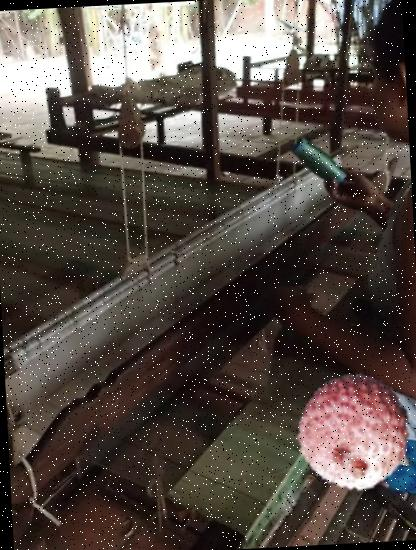Lychee: (291, 368, 416, 494)
